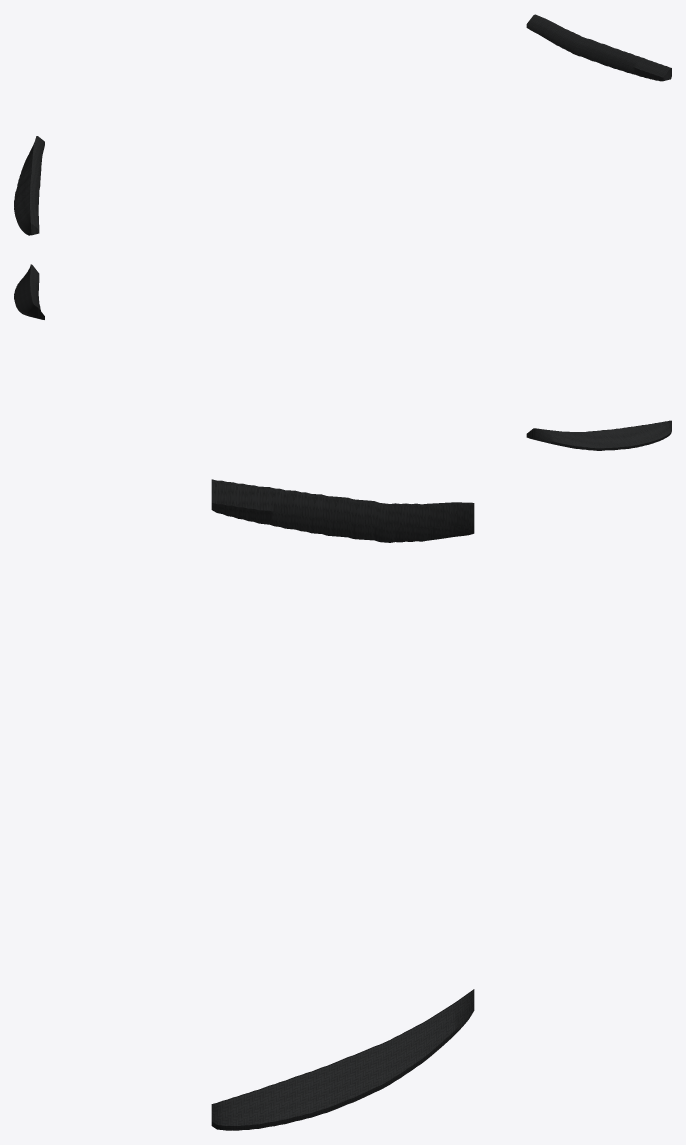
The model's file is RA26_rear_spats.glb.
3 renders of one model, top to bottom at view 1: azimuth 30°, elevation 25°; view 2: azimuth 150°, elevation 25°; view 3: azimuth 270°, elevation 25°, orthographic. The views are drawn at different scales.
Parts seen in each view (by area): view 1: MOD_ND_RA26_spat_1, MOD_ND_RA26_spat_neg1; view 2: MOD_ND_RA26_spat_neg1, MOD_ND_RA26_spat_1; view 3: MOD_ND_RA26_spat_1, MOD_ND_RA26_spat_neg1.
Part boxes in pixels (x1=…): MOD_ND_RA26_spat_1: x1=526, y1=14, x2=671, y2=81; MOD_ND_RA26_spat_neg1: x1=14, y1=136, x2=44, y2=235; MOD_ND_RA26_spat_neg1: x1=526, y1=420, x2=671, y2=450; MOD_ND_RA26_spat_1: x1=14, y1=264, x2=44, y2=319; MOD_ND_RA26_spat_1: x1=211, y1=989, x2=474, y2=1130; MOD_ND_RA26_spat_neg1: x1=211, y1=479, x2=474, y2=542.
Bounding box in the file's own units: 1.5 × 0.079 × 0.265.
1 material, 1 textured.
